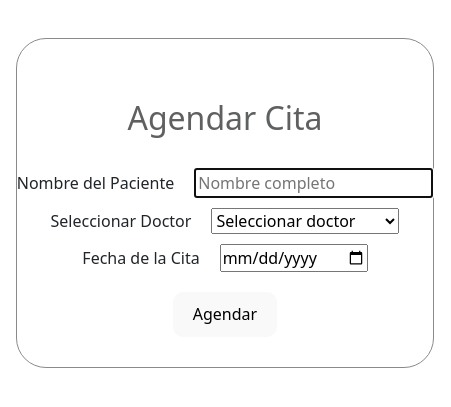
Test case: AppointmentForm › Debería mostrar un mensaje de error cuando la API falle
The width and height of the screenshot is (451, 407).
In the field labelled "Nombre del Paciente": [314, 183] box [194,168,433,198], type "Juan Pérez"
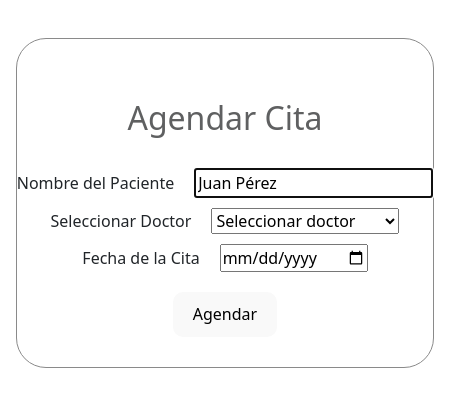
Select "Dr. Pérez (Cardiología)" in the dropdown labelled "Seleccionar Doctor": [305, 221] box [211,208,399,234]
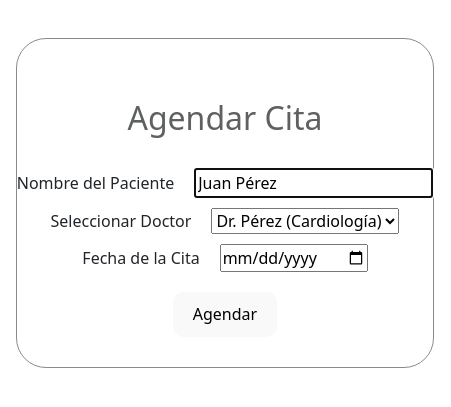
In the date field labelled "Fecha de la Cita": [294, 258] box [220,244,368,272], type "2025-04-05"
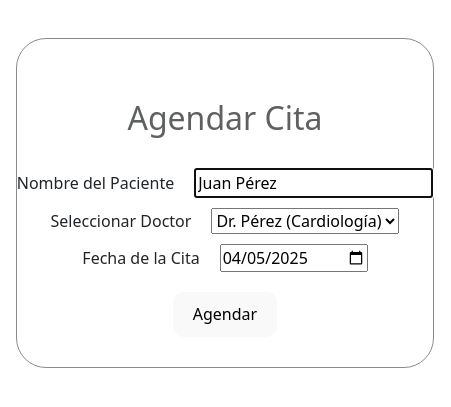
Click the button "Agendar": [225, 314] box [173,292,277,337]
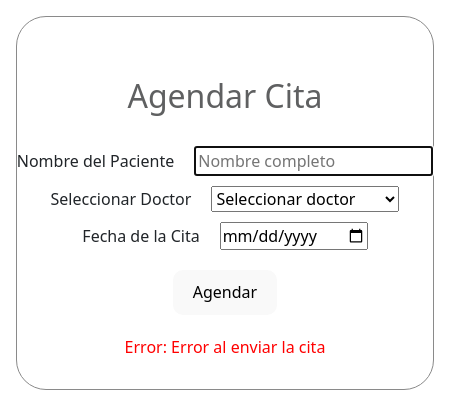
Result: the text "Error: Error al enviar la cita" is shown at [125,336,325,358]
